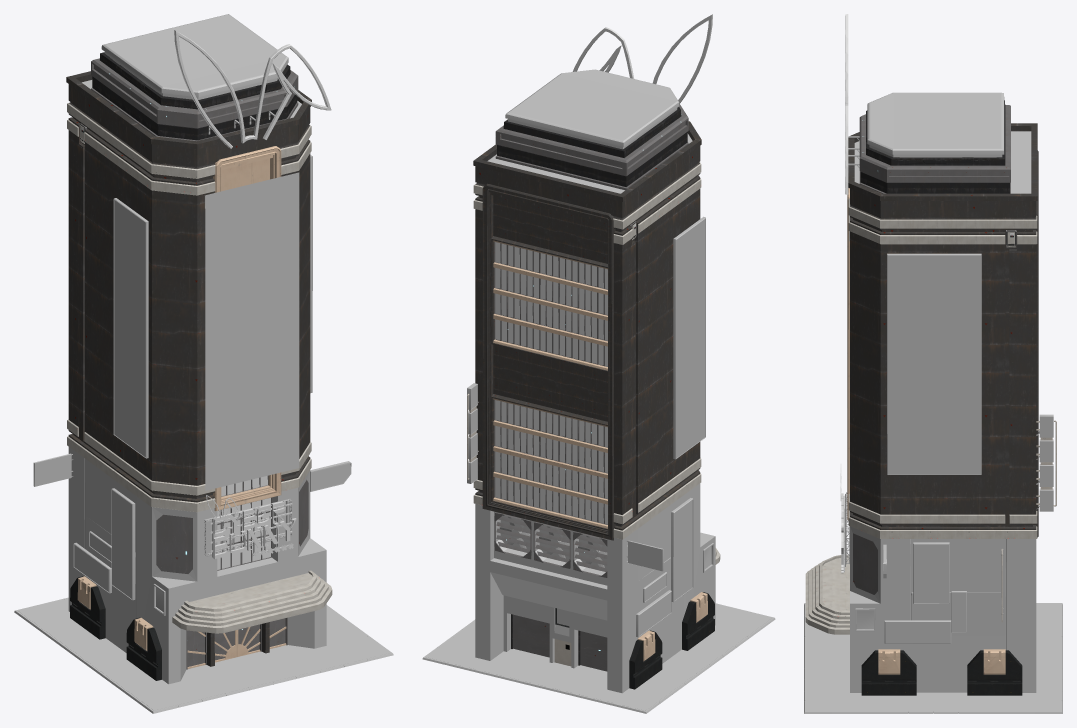
File: k70_赛博朋克_06.fbx
3 renders of one model, left to right at view 1: azimuth 30°, elevation 25°; view 2: azimuth 150°, elevation 25°; view 3: azimuth 270°, elevation 25°, orthographic. The views are drawn at different scales.
Parts seen in each view (by area): view 1: KB3D_CBP_CyberBunny_A_Sidewalk, KB3D_CBP_CyberBunny_A_NeonSignA, KB3D_CBP_CyberBunny_A_NeonSignB; view 2: KB3D_CBP_CyberBunny_A_Sidewalk, KB3D_CBP_CyberBunny_A_NeonSignB; view 3: KB3D_CBP_CyberBunny_A_Sidewalk, KB3D_CBP_CyberBunny_A_NeonSignB, KB3D_CBP_CyberBunny_A_NeonSignA.
Part boxes in pixels (x1,y1,x2,y2): KB3D_CBP_CyberBunny_A_Sidewalk: (14, 14, 393, 713); KB3D_CBP_CyberBunny_A_NeonSignA: (204, 495, 296, 558); KB3D_CBP_CyberBunny_A_NeonSignB: (174, 30, 331, 148); KB3D_CBP_CyberBunny_A_Sidewalk: (422, 69, 775, 713); KB3D_CBP_CyberBunny_A_NeonSignB: (572, 14, 712, 103); KB3D_CBP_CyberBunny_A_Sidewalk: (804, 92, 1062, 713); KB3D_CBP_CyberBunny_A_NeonSignB: (845, 14, 860, 194); KB3D_CBP_CyberBunny_A_NeonSignA: (840, 464, 849, 573).
Bounding box in the file's own units: 2041 × 5311 × 2040.
